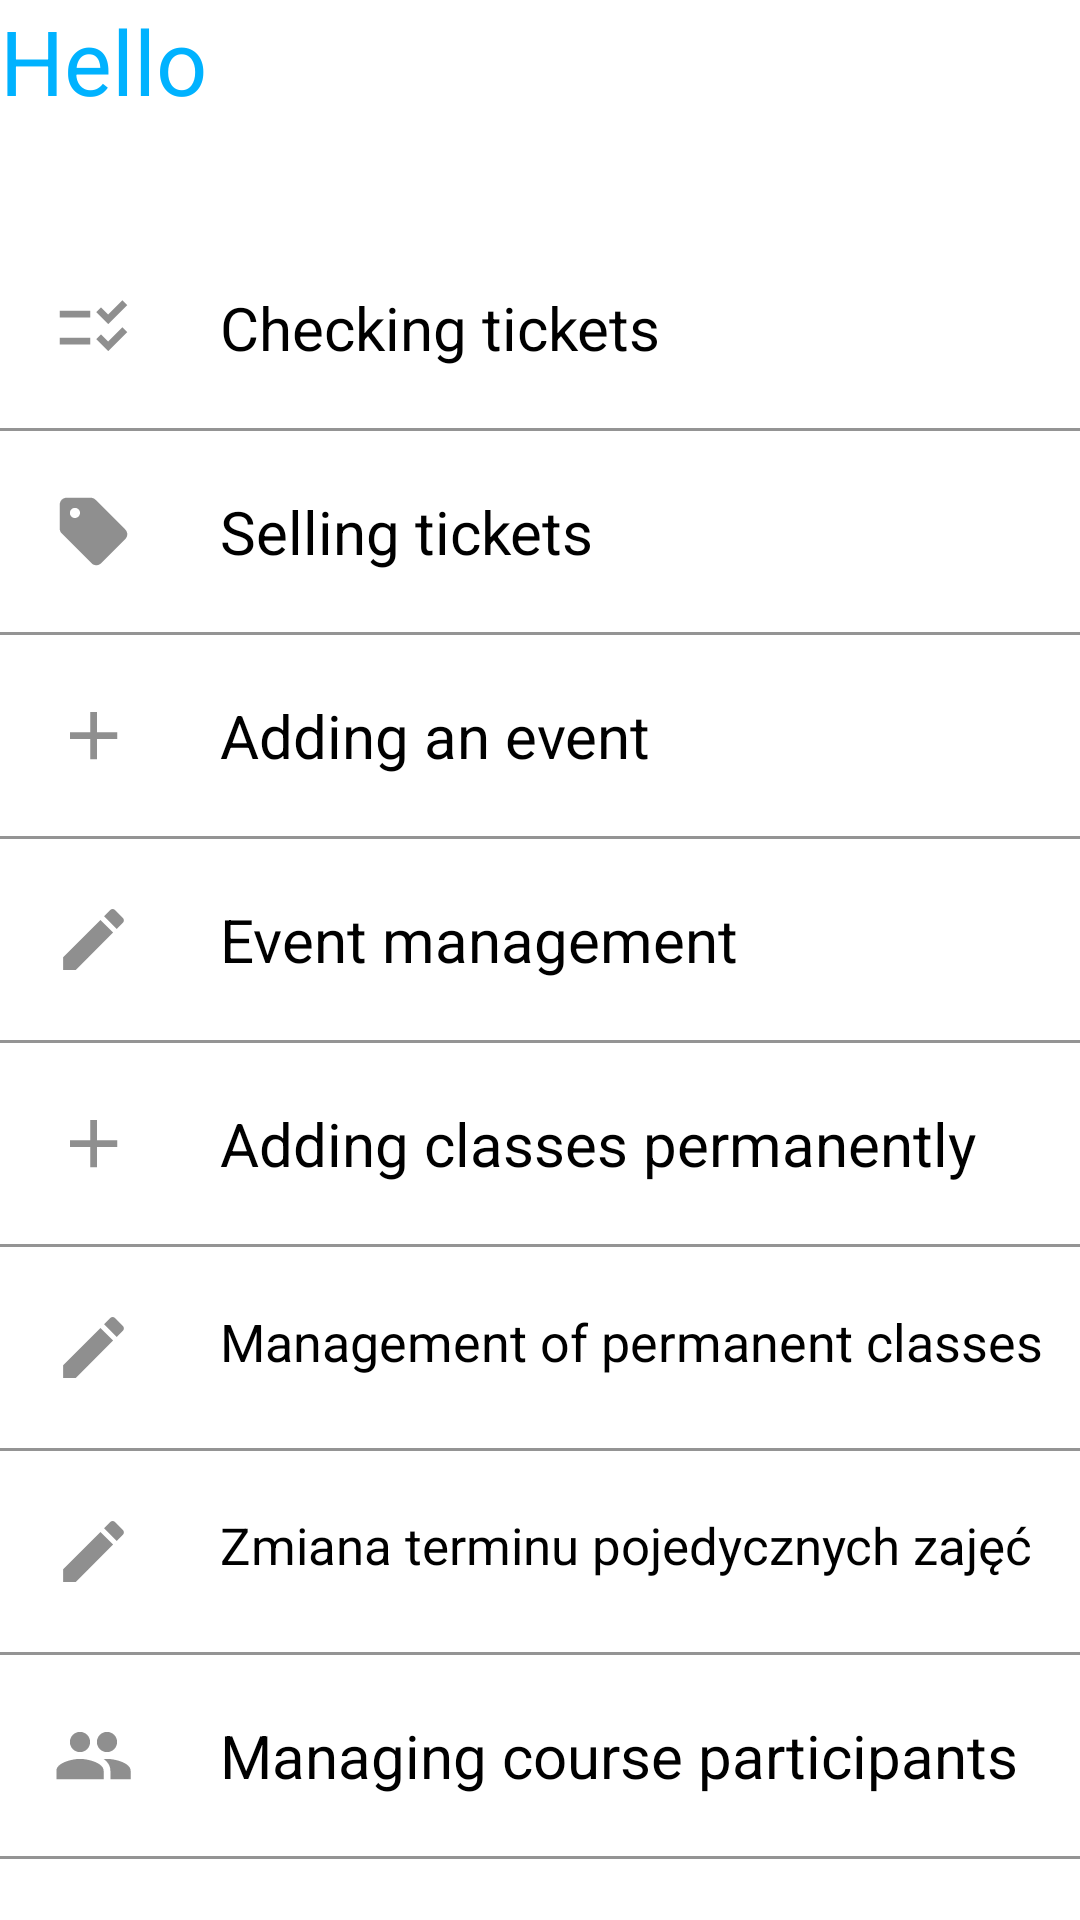

Named icons in this screenshot (1080px×1920px) and their bounding boxes, region(x1, y1, x2, y2):
list: region(59, 300, 127, 351)
pencil: region(63, 909, 124, 970), region(63, 1317, 124, 1378), region(63, 1521, 124, 1582)
people: region(56, 1732, 131, 1780)
plus: region(70, 712, 118, 760), region(70, 1120, 118, 1168)
price: region(59, 497, 128, 566)
